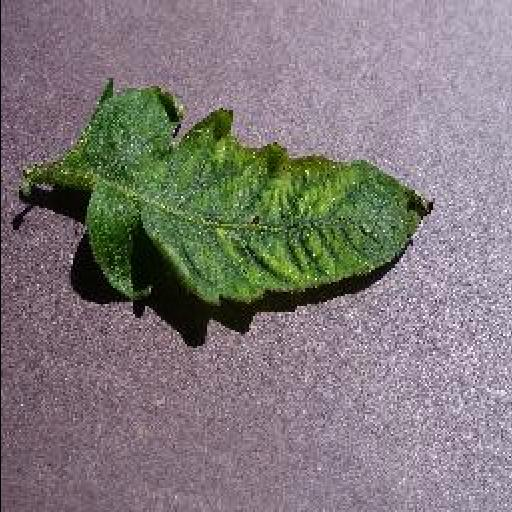Mosaic Virus: (78, 78, 436, 306)
